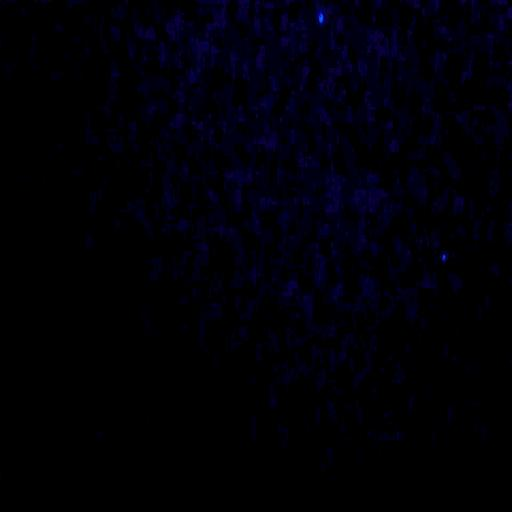object-detection-project: (319, 12, 323, 23)
